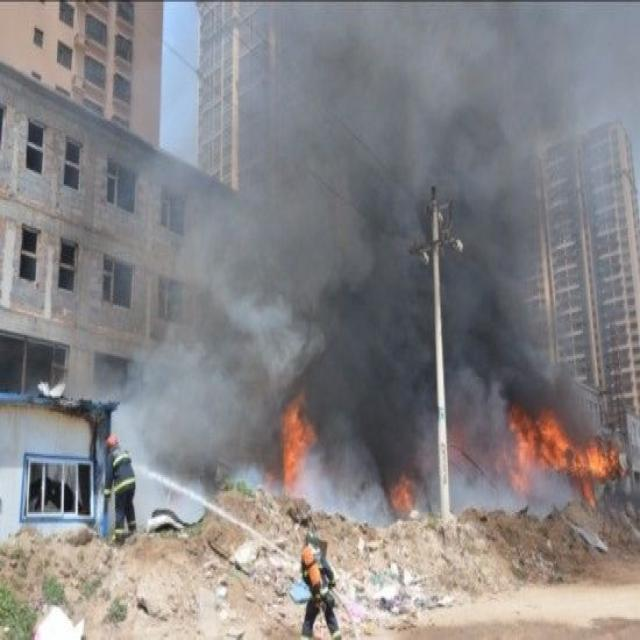Fire: (506, 402, 623, 514), (280, 390, 318, 492), (388, 474, 416, 511)
Smoke: (59, 2, 640, 530)
